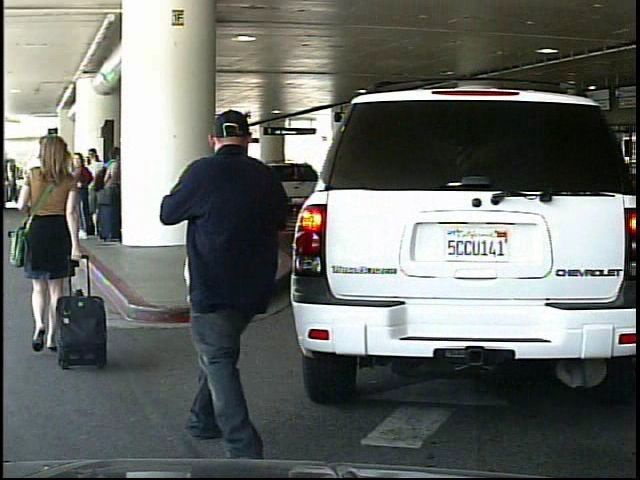person: (160, 98, 322, 458), (6, 129, 89, 378)
